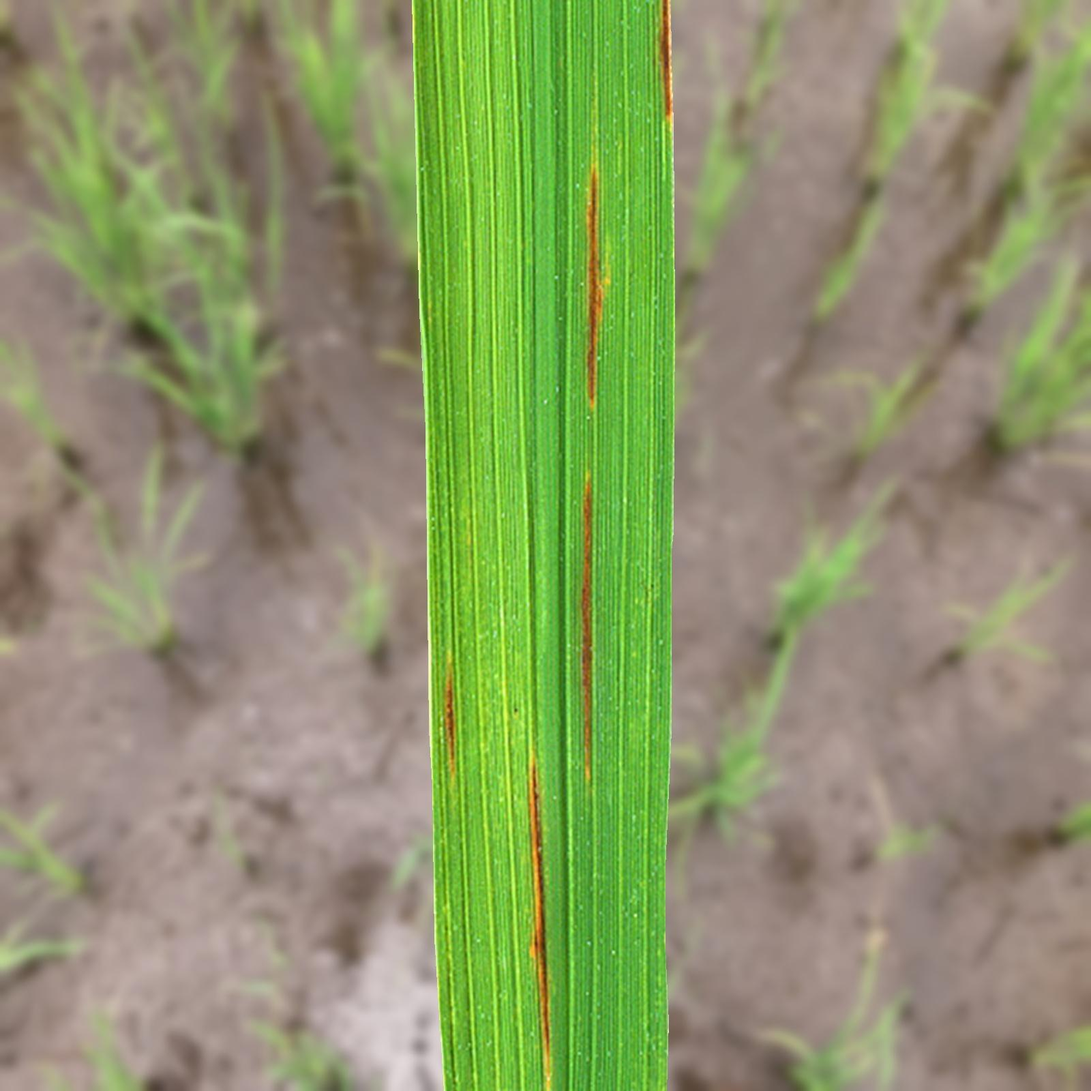LEAF: (412, 0, 675, 1090)
NBS: (528, 749, 551, 1090), (586, 163, 603, 409), (581, 470, 593, 783), (659, 0, 672, 125), (444, 652, 456, 781), (589, 177, 597, 219)
